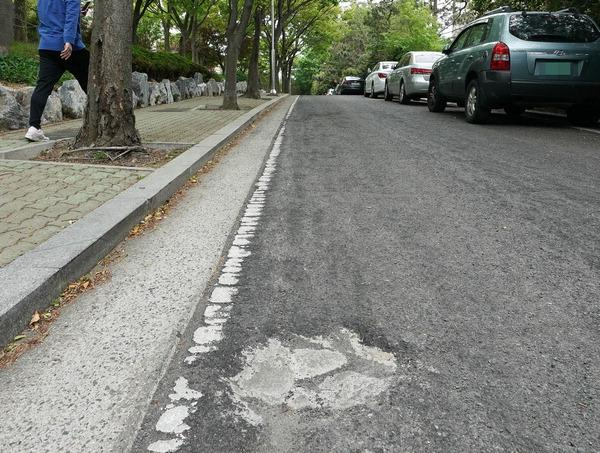pothole: (213, 309, 411, 417)
